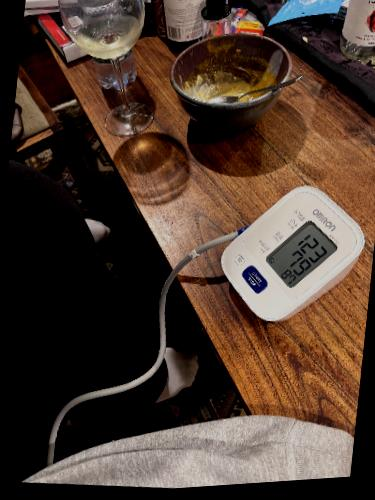bpm: (260, 217, 337, 292)
